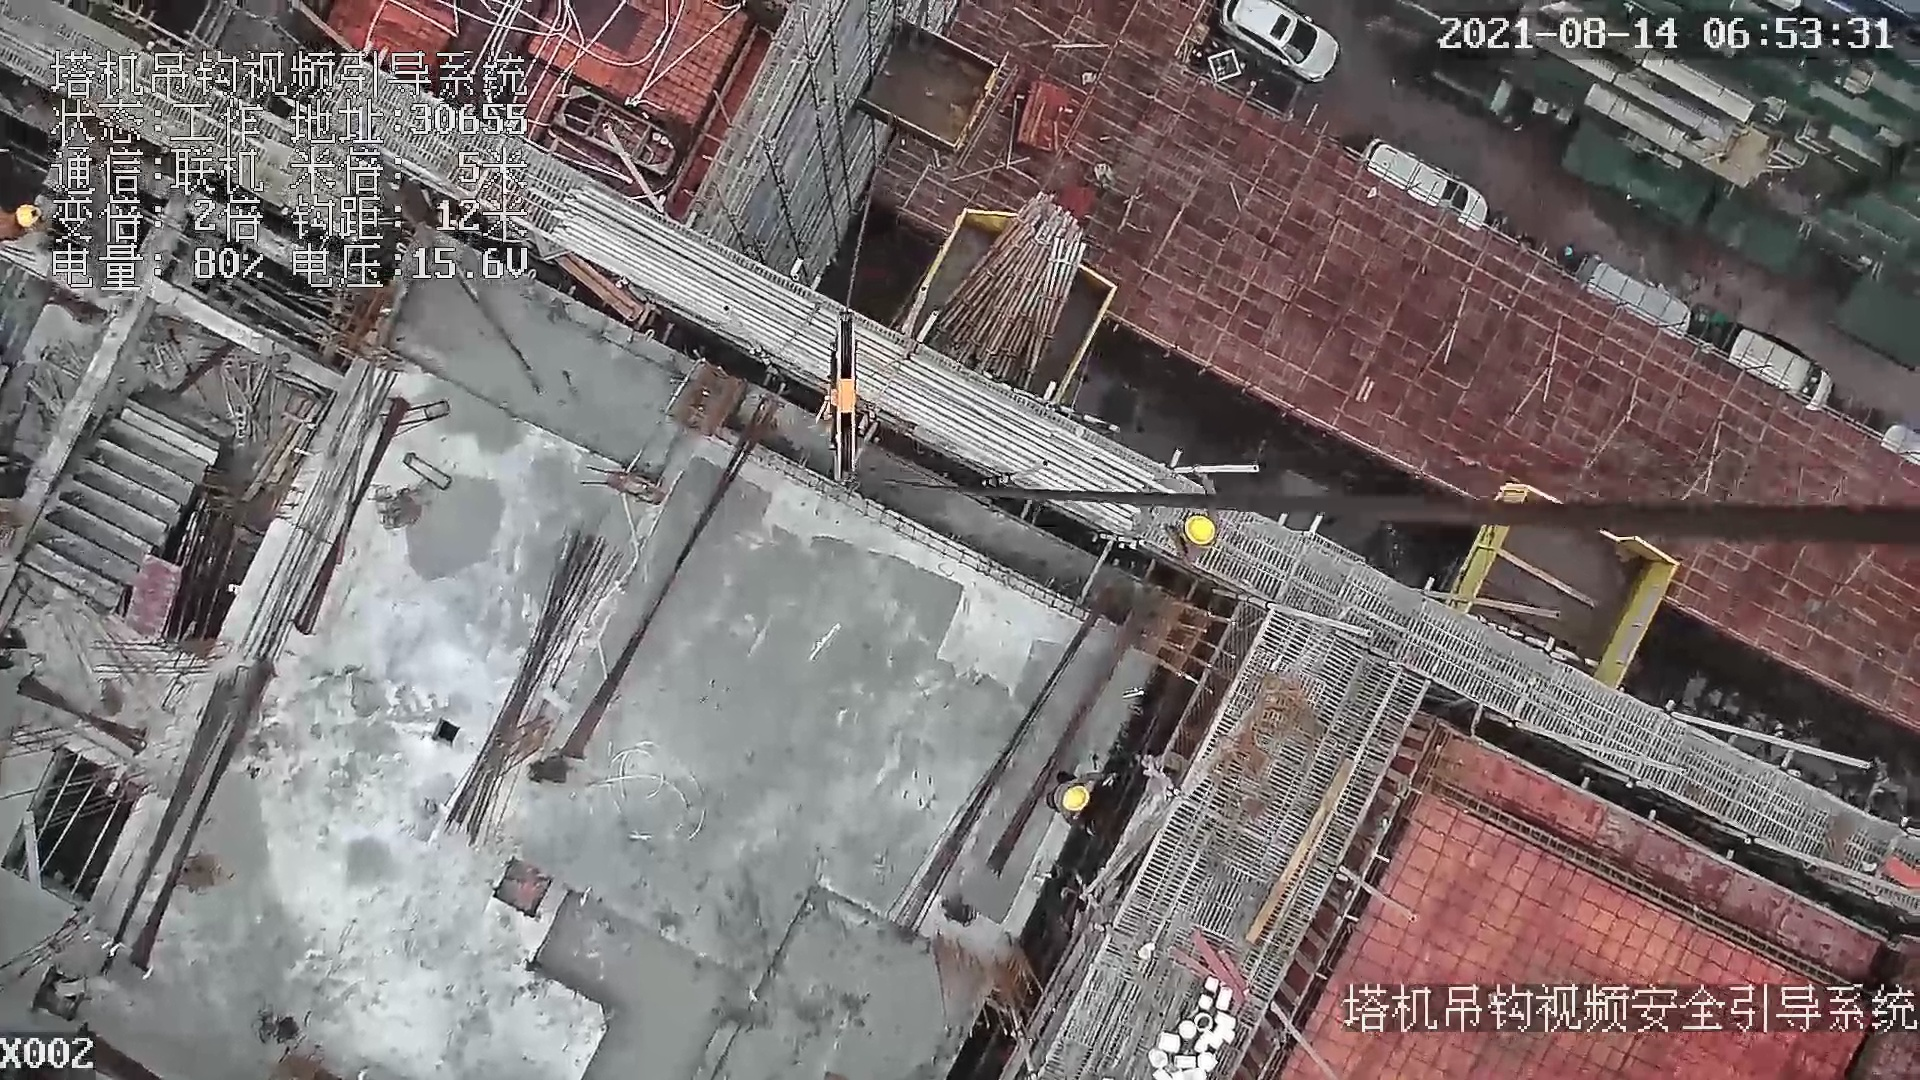helmet: (1184, 516, 1215, 544), (1061, 785, 1089, 811), (16, 204, 42, 228)
hook: (832, 306, 867, 485)
person: (1046, 768, 1118, 835), (1170, 467, 1220, 558)
rebar: (543, 184, 1154, 539), (439, 529, 624, 845)
scaffold: (925, 195, 1086, 387)
